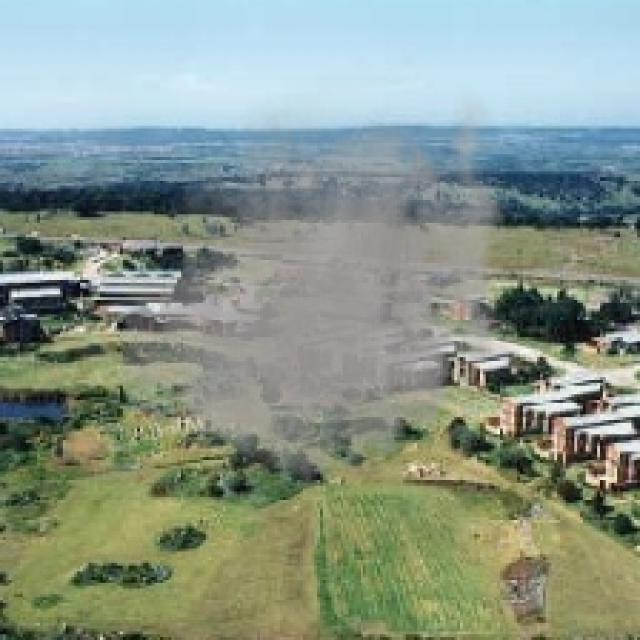smoke: (106, 83, 526, 506)
